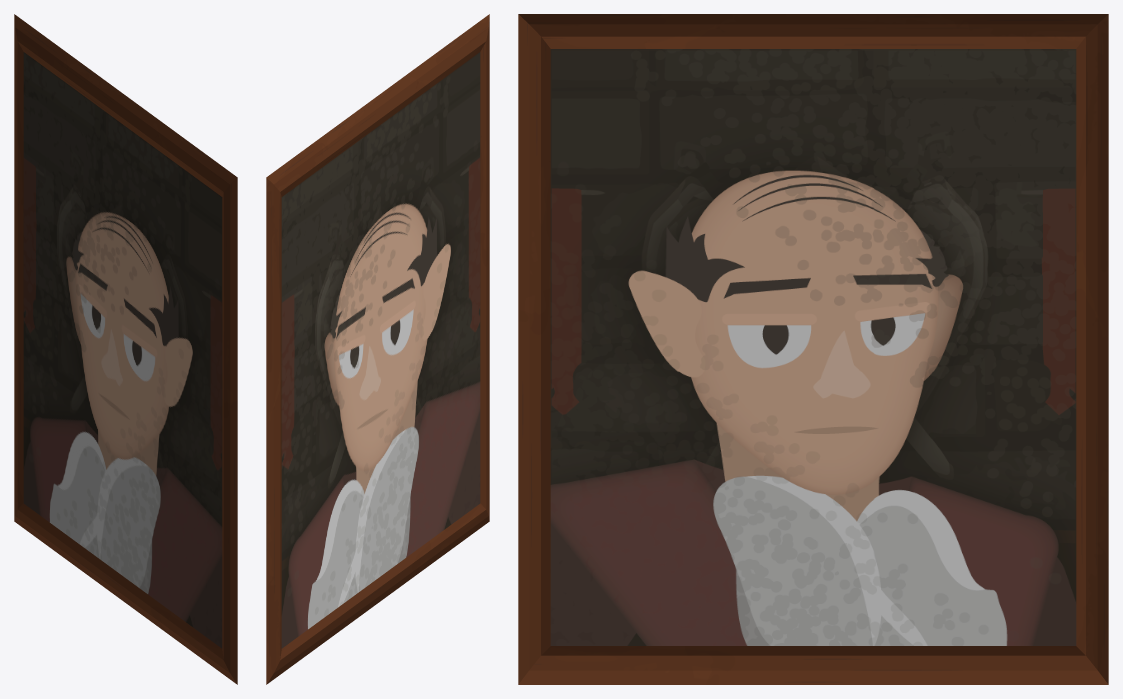
File: Painting.fbx
3 views of the same model, side by side, from view 1: azimuth 30°, elevation 25°; view 2: azimuth 150°, elevation 25°; view 3: azimuth 270°, elevation 25° (orthographic). The views are drawn at different scales.
Parts seen in each view (by area): view 1: Plane; view 2: Plane; view 3: Plane.
Boxes of the visible parts, x1,y1,x2,y2 form: Plane: (14,14,237,684); Plane: (266,14,489,684); Plane: (518,14,1108,684).
Size of the model in its own units: 42.56 by 3888 by 3101.
Materials: 1 (1 with a texture image).
